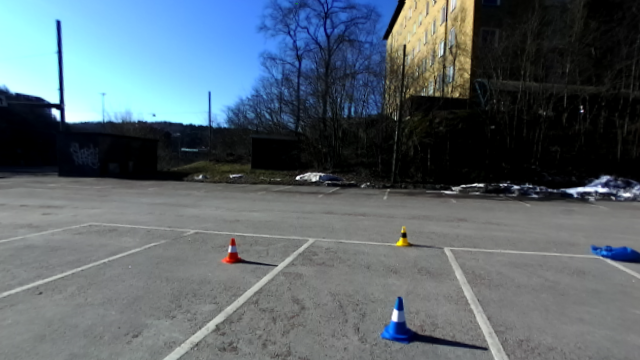blue: (381, 297, 417, 343)
orange: (220, 238, 241, 264)
yellow: (394, 226, 410, 246)
